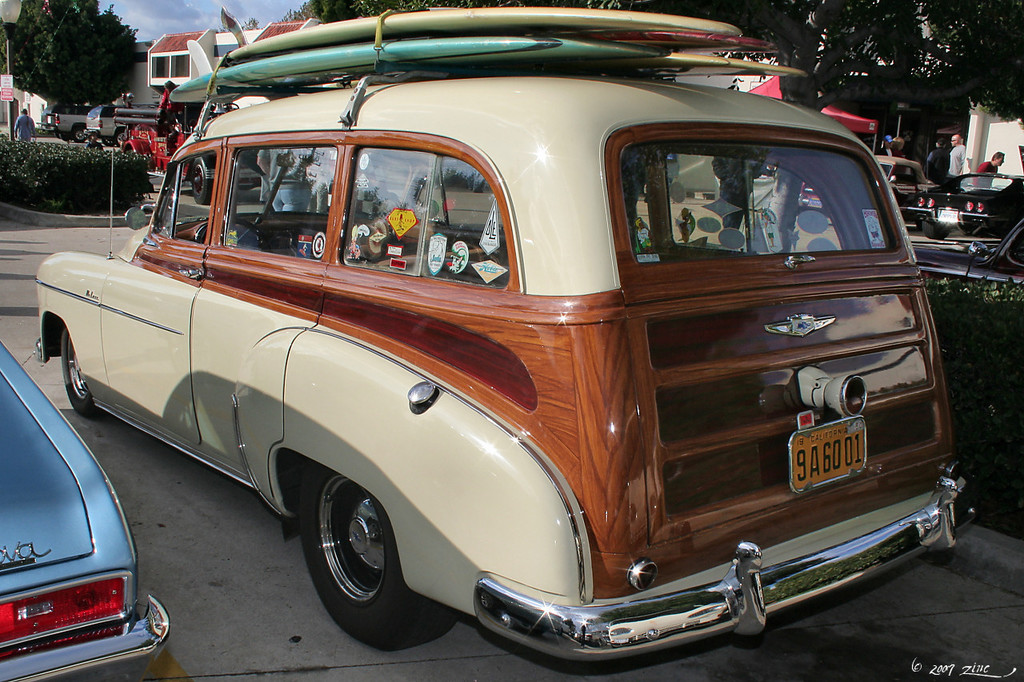mobil: (36, 84, 999, 662)
